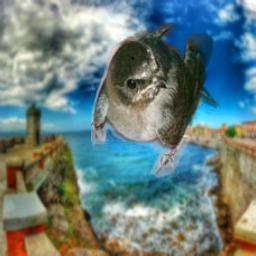Swallow: (91, 23, 221, 178)
